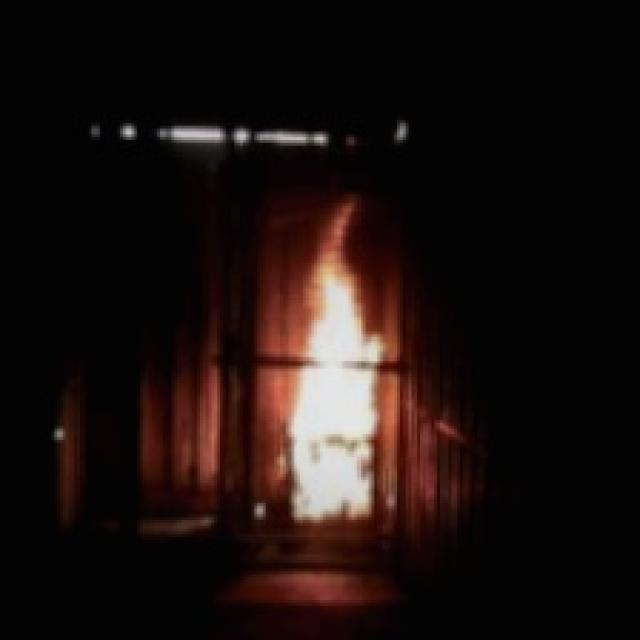fire: (273, 232, 390, 528)
